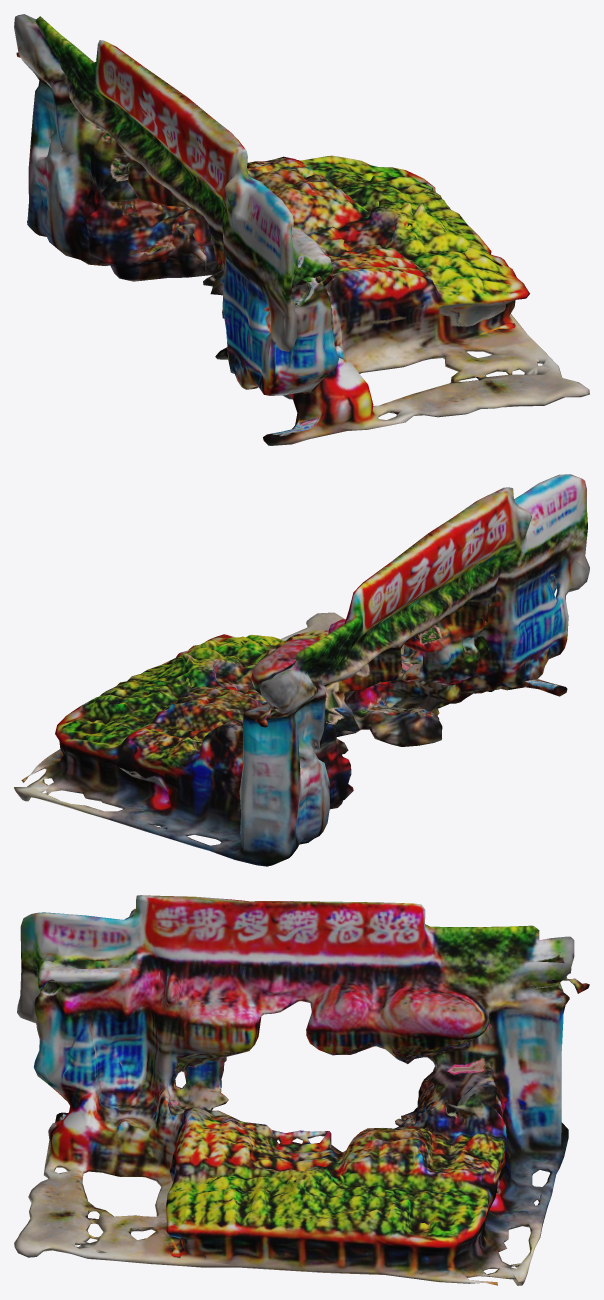
File: 7d8638ee1937_Da_Nang_Traditional.obj
The picture shows the model from 3 angles, top to bottom: view 1: azimuth 30°, elevation 25°; view 2: azimuth 150°, elevation 25°; view 3: azimuth 270°, elevation 25°; orthographic projection. The views are drawn at different scales.
Parts seen in each view (by area): view 1: mesh; view 2: mesh; view 3: mesh.
Boxes of the visible parts, x1,y1,x2,y2 form: mesh: [14, 14, 589, 445]; mesh: [14, 474, 589, 866]; mesh: [14, 895, 589, 1285].
Size of the model in its own units: 0.6663 by 0.4763 by 1.
Materials: 1 (1 with a texture image).
